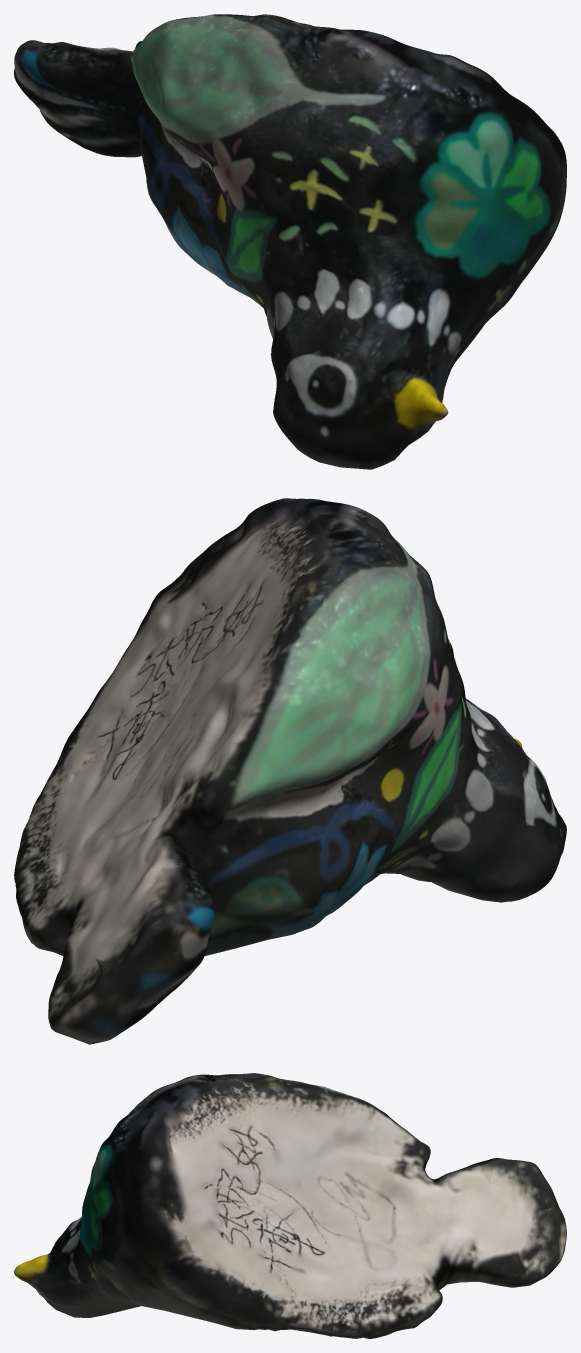
3 renders of one model, top to bottom at view 1: azimuth 30°, elevation 25°; view 2: azimuth 150°, elevation 25°; view 3: azimuth 270°, elevation 25°, orthographic. The views are drawn at different scales.
Bounding box in the file's own units: 0.3914 × 0.4061 × 0.7817.
Materials: 1 (1 with a texture image).
